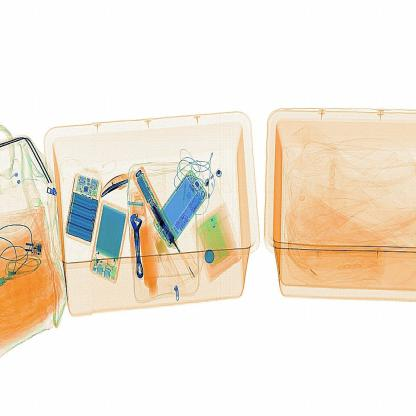pliers: (96, 168, 136, 199)
